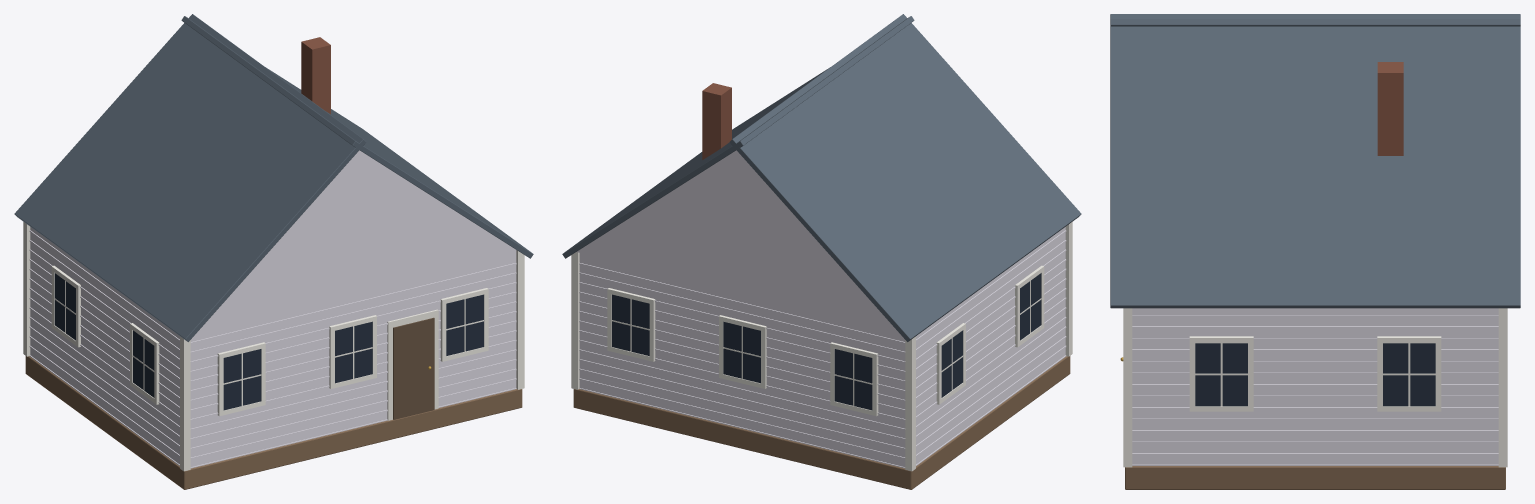
Rendered from house_cottage.glb.
3 renders of one model, left to right at view 1: azimuth 30°, elevation 25°; view 2: azimuth 150°, elevation 25°; view 3: azimuth 270°, elevation 25°, orthographic. The views are drawn at different scales.
Visible parts, largest first — view 1: roof, body, gable, base, roof.001, door, glass, glass.004, chimney, glass.002, corner, door_frame (+11 smaller); view 2: roof, body, gable.001, base, roof.001, glass.001, glass.005, chimney, glass.003, corner.001, corner.003, glass.008 (+9 smaller); view 3: roof.001, body, base, roof, glass.007, glass.009, chimney, corner.002, corner.003, rib.007, rib.011, rib.019 (+15 smaller).
Part boxes in pixels (left/top/right/bottom): roof: left=14, top=14, right=366, bottom=341; body: left=30, top=227, right=516, bottom=466; gable: left=204, top=150, right=514, bottom=324; base: left=25, top=356, right=522, bottom=489; roof.001: left=181, top=16, right=533, bottom=258; door: left=393, top=317, right=434, bottom=419; glass: left=223, top=349, right=261, bottom=410; glass.004: left=446, top=294, right=483, bottom=355; chimney: left=301, top=37, right=330, bottom=114; glass.002: left=335, top=321, right=372, bottom=383; corner: left=180, top=336, right=190, bottom=471; door_frame: left=387, top=309, right=438, bottom=420; roof: left=729, top=14, right=1081, bottom=341; body: left=579, top=227, right=1065, bottom=466; gable.001: left=577, top=150, right=895, bottom=329; base: left=573, top=356, right=1070, bottom=489; roof.001: left=562, top=16, right=914, bottom=258; glass.001: left=834, top=349, right=872, bottom=410; glass.005: left=612, top=294, right=649, bottom=355; chimney: left=702, top=83, right=731, bottom=159; glass.003: left=723, top=321, right=760, bottom=383; corner.001: left=905, top=336, right=915, bottom=471; corner.003: left=571, top=252, right=579, bottom=389; glass.008: left=941, top=330, right=962, bottom=397; roof.001: left=1110, top=14, right=1520, bottom=308; body: left=1132, top=308, right=1498, bottom=464; base: left=1125, top=466, right=1505, bottom=489; roof: left=1110, top=18, right=1520, bottom=26; glass.007: left=1195, top=343, right=1247, bottom=406; glass.009: left=1383, top=343, right=1435, bottom=406; chimney: left=1377, top=62, right=1403, bottom=155; corner.002: left=1123, top=308, right=1132, bottom=467; corner.003: left=1498, top=308, right=1507, bottom=467; rib.007: left=1132, top=453, right=1498, bottom=455; rib.011: left=1132, top=441, right=1498, bottom=443; rib.019: left=1132, top=418, right=1498, bottom=420.
Bounding box in the file's own units: 8.34 × 7.17 × 7.1.
